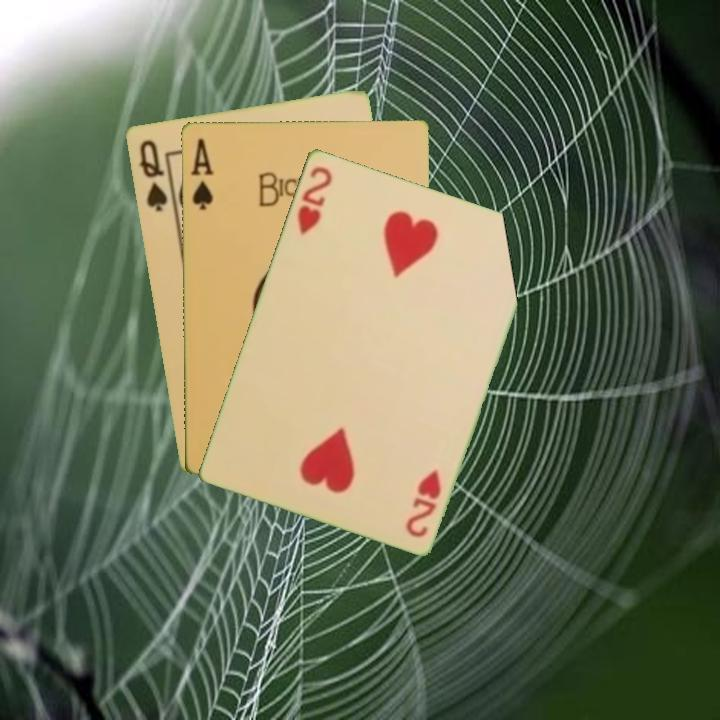2h: (401, 466, 444, 540), (293, 162, 335, 237)
As: (187, 134, 216, 213)
Qs: (135, 135, 170, 215)
